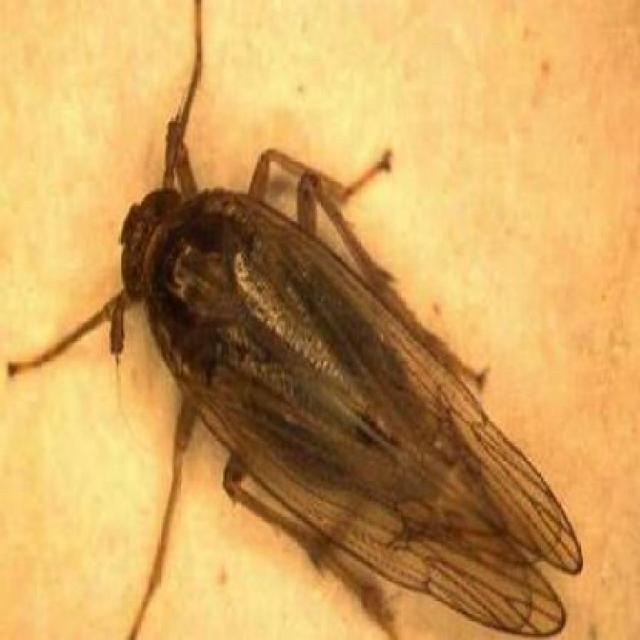brown-planthopper: (112, 180, 574, 629)
